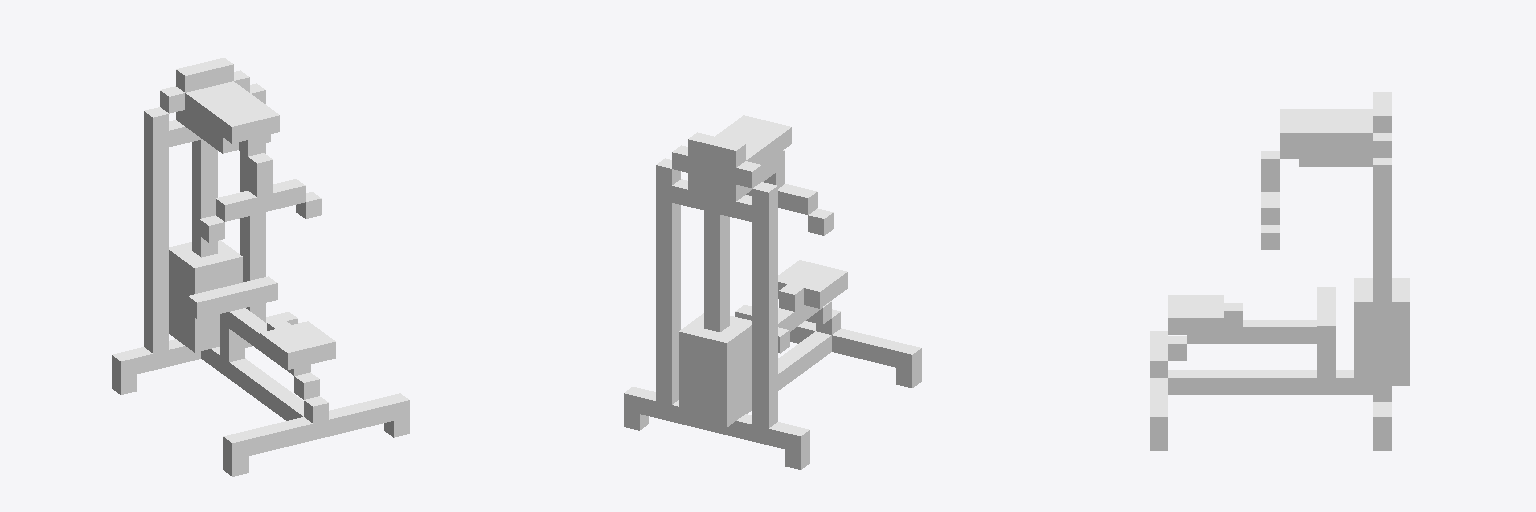
The model's file is gym.obj.
The picture shows the model from 3 angles: view 1: azimuth 30°, elevation 25°; view 2: azimuth 150°, elevation 25°; view 3: azimuth 270°, elevation 25°; orthographic projection.
Visible parts, largest first — view 1: object 1; view 2: object 1; view 3: object 1.
Boxes of the visible parts, <box> form: object 1: <box>112,58,409,476</box>; object 1: <box>624,115,921,469</box>; object 1: <box>1150,92,1409,450</box>.
Size of the model in its own units: 1.1 by 1.8 by 1.4.